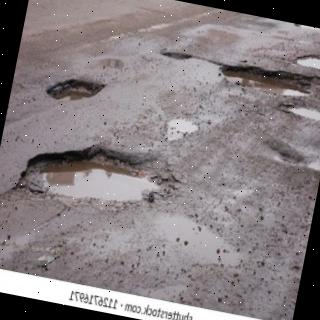pothole: (23, 145, 160, 202), (161, 51, 320, 94), (256, 140, 320, 178), (45, 79, 105, 101), (166, 117, 198, 140), (290, 107, 320, 121), (296, 56, 320, 70)
